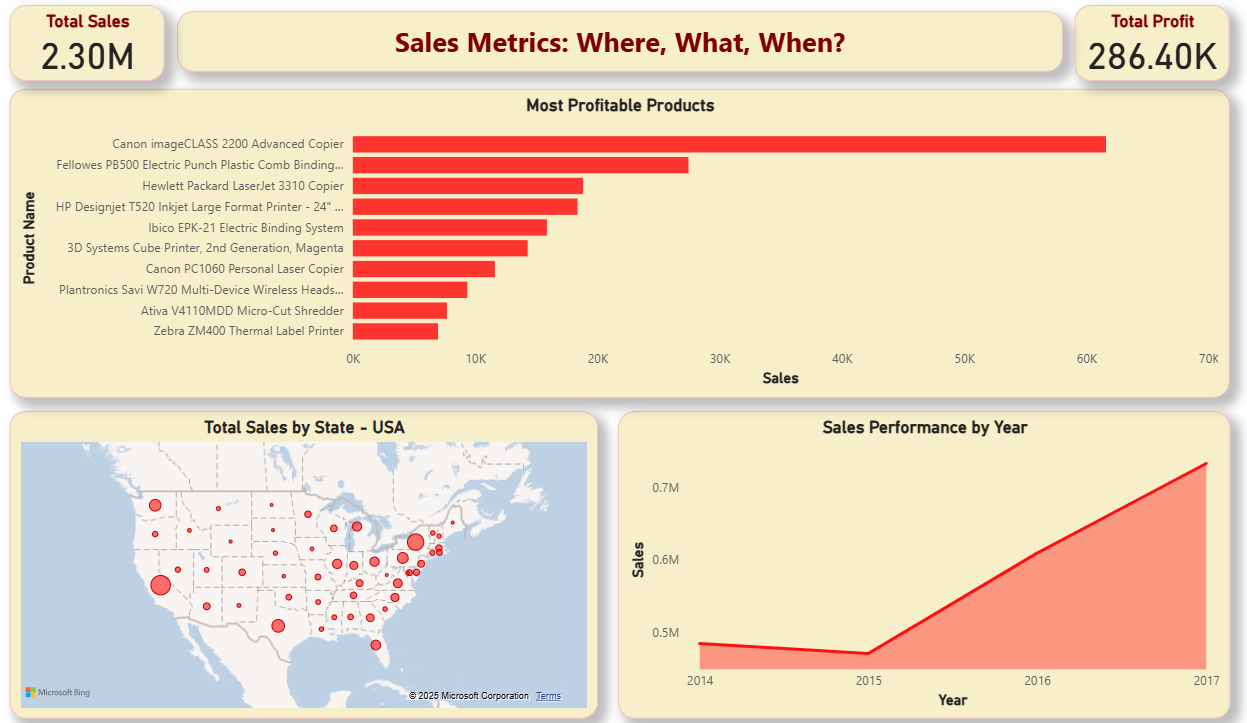

The page's visual inventory and layout, read from the dashboard file:
{"tool":"powerbi","page":{"name":"Page 1","canvas":[1280,720],"ordinal":0},"visuals":[{"type":"map","title":"Total Sales by State - USA","fields":{"Size":["Sum(Sample - Superstore.Sales)"],"Category":["Sample - Superstore.State"]},"box":[37,408.9,577.7,301.9],"z":0},{"type":"areaChart","title":"Sales Performance by Year","fields":{"Category":["Sample - Superstore.Order Date.Variation.Date Hierarchy.Year","Sample - Superstore.Order Date.Variation.Date Hierarchy.Quarter","Sample - Superstore.Order Date.Variation.Date Hierarchy.Month","Sample - Superstore.Order Date.Variation.Date Hierarchy.Day"],"Y":["Sum(Sample - Superstore.Sales)"]},"box":[634,408.9,601,301.9],"z":1000},{"type":"clusteredBarChart","title":"Most Profitable Products","fields":{"Category":["Sample - Superstore.Product Name"],"Y":["Sum(Sample - Superstore.Sales)"]},"box":[37,91.9,1197.9,303.3],"z":2000},{"type":"textbox","box":[201.7,16.5,870,59],"z":3000},{"type":"card","title":"Total Sales","fields":{"Values":["Sum(Sample - Superstore.Sales)"]},"box":[37,9.6,152.3,74.1],"z":3001},{"type":"card","title":"Total Profit","fields":{"Values":["Sum(Sample - Superstore.Profit)"]},"box":[1082.7,9.6,152.3,74.1],"z":3002}]}

Visuals, with their boxes in screenshot pixels (x1, y1, x2, y2), scaled from the page's 1280x720 canvas onto the 1247x723 screenshot:
"Total Sales by State - USA" map: (36, 411, 599, 714)
"Sales Performance by Year" areaChart: (618, 411, 1203, 714)
"Most Profitable Products" clusteredBarChart: (36, 92, 1203, 397)
textbox: (196, 17, 1044, 76)
"Total Sales" card: (36, 10, 184, 84)
"Total Profit" card: (1055, 10, 1203, 84)
